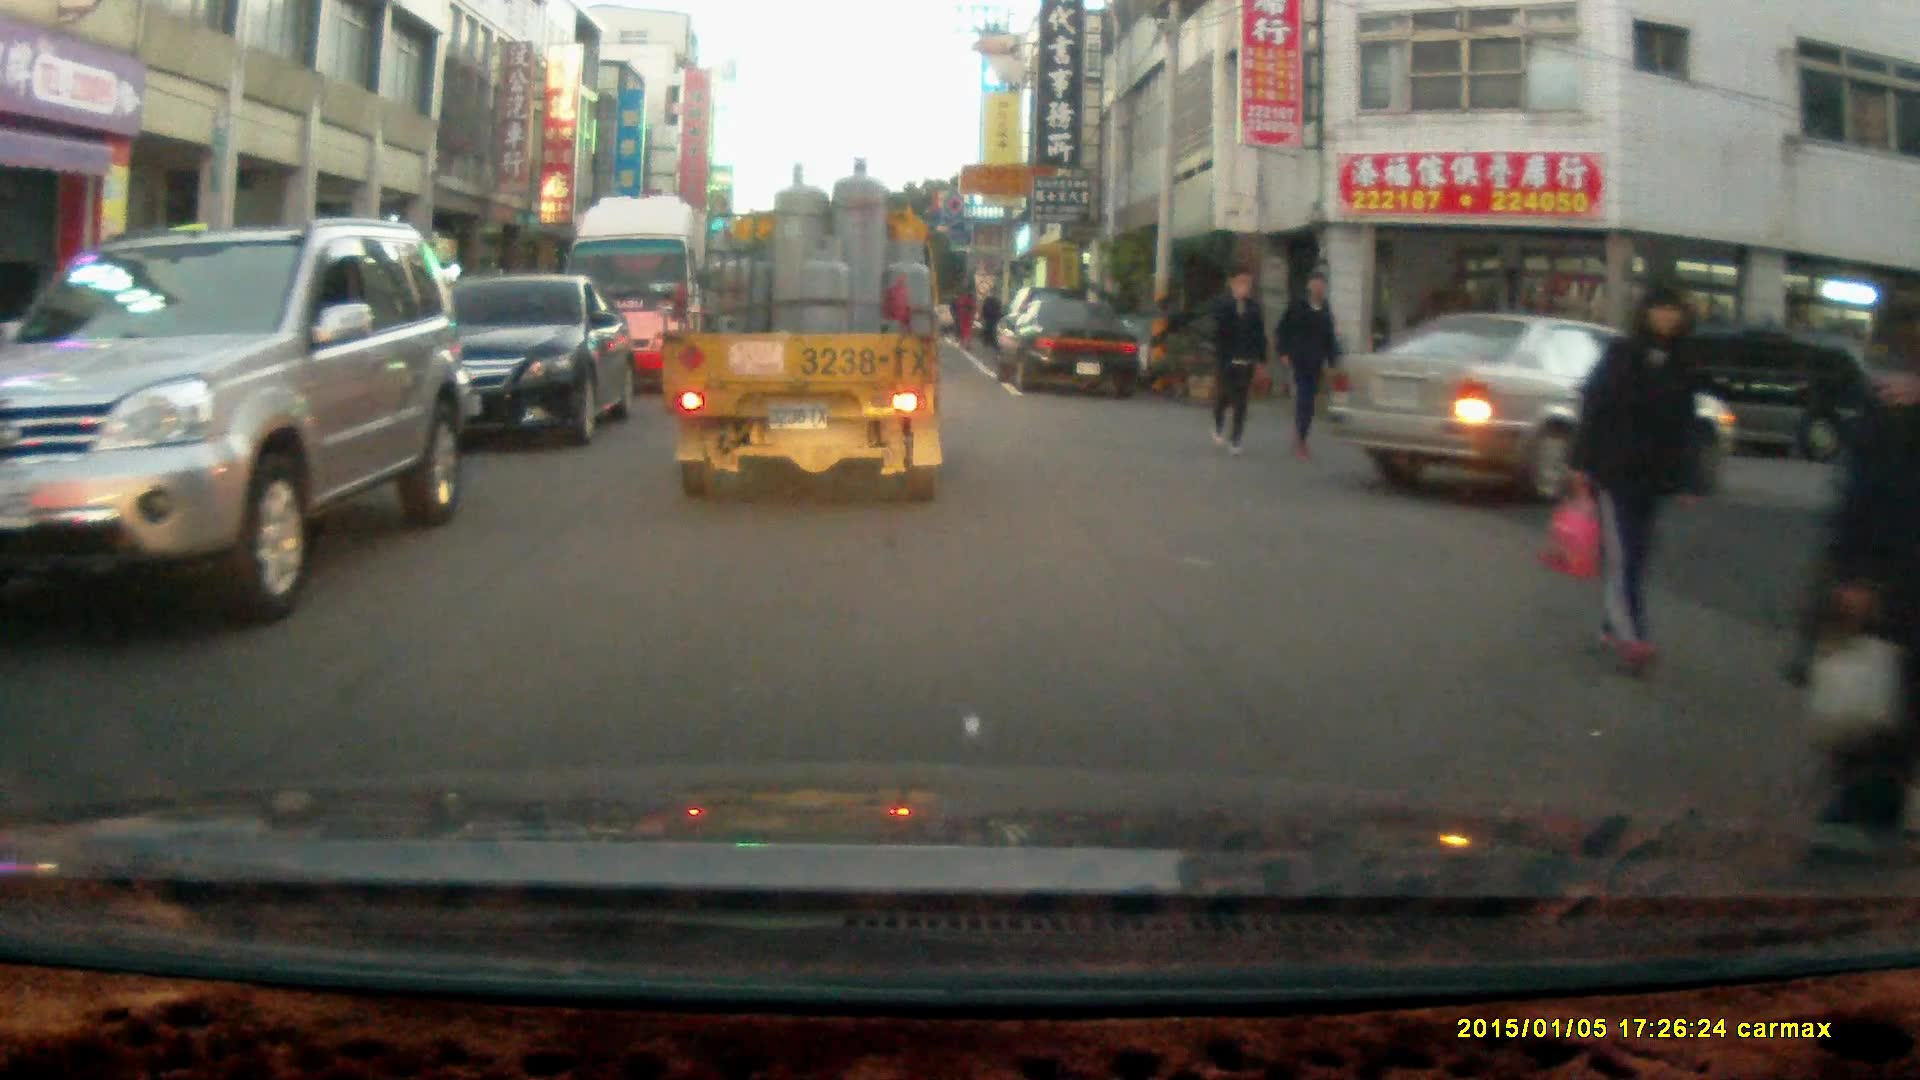pedestrian: (1576, 282, 1706, 671), (1274, 270, 1340, 460), (1204, 260, 1261, 453), (976, 279, 1003, 348)
vehicle: (1, 216, 466, 628), (661, 158, 946, 511), (1332, 310, 1740, 515), (375, 278, 636, 455), (561, 194, 735, 401), (990, 299, 1143, 400)
